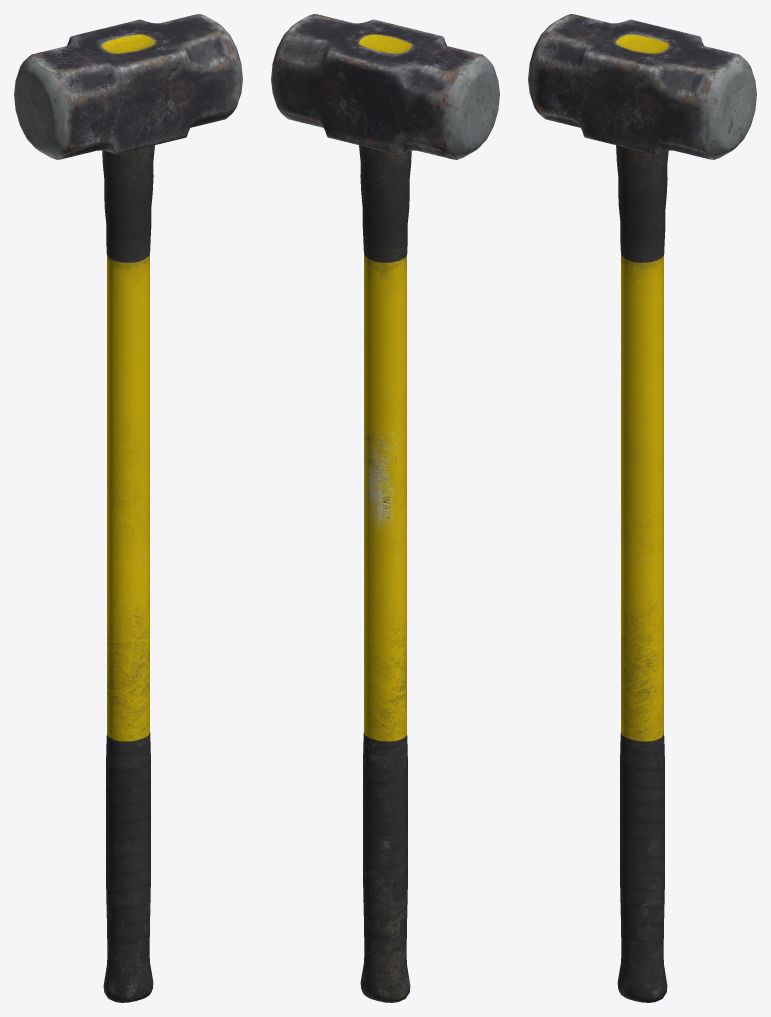
The model's file is sledgehammer.glb.
The picture shows the model from 3 angles, left to right: view 1: azimuth 30°, elevation 25°; view 2: azimuth 150°, elevation 25°; view 3: azimuth 330°, elevation 25°; orthographic projection.
Parts seen in each view (by area): view 1: sledgehammer_01; view 2: sledgehammer_01; view 3: sledgehammer_01.
Part boxes in pixels (<box>): sledgehammer_01: <box>14,14,242,1002</box>; sledgehammer_01: <box>271,14,499,1002</box>; sledgehammer_01: <box>528,14,756,1002</box>.
Bounding box in the file's own units: 0.2084 × 1.01 × 0.0905.
Materials: 1 (1 with a texture image).
